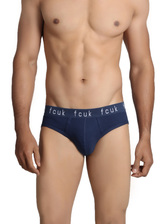clothoes: (37, 99, 131, 158)
